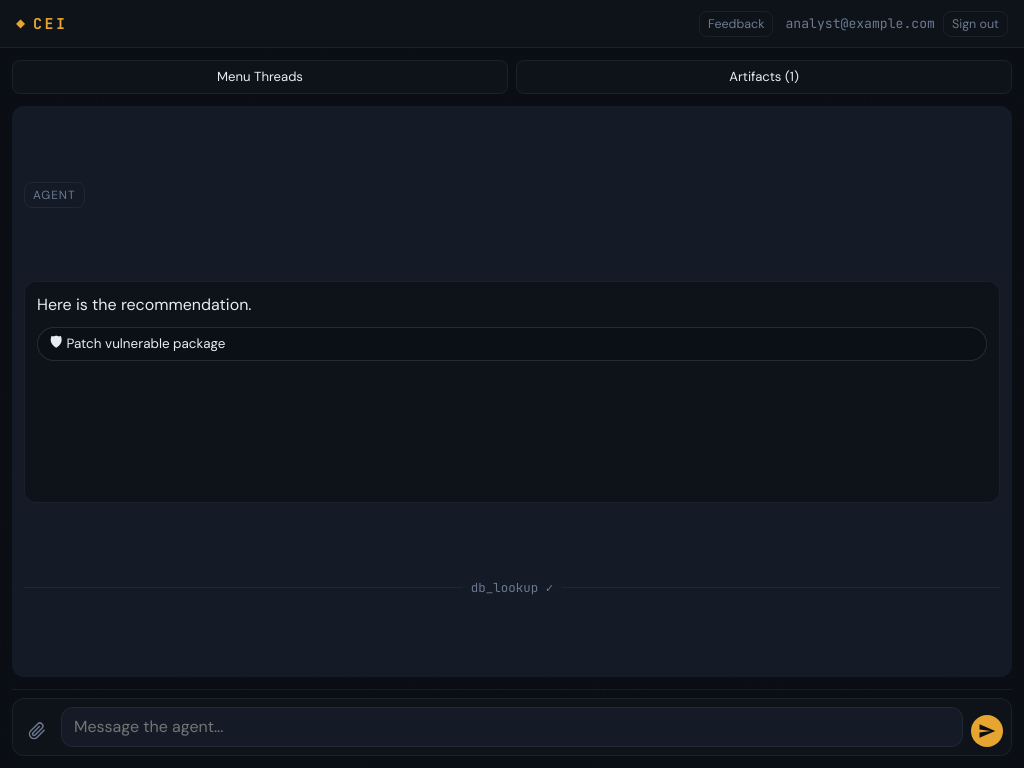
it: CommandCenter compact layout › opens expanded overlay when an artifact pill is clicked
This screenshot has width=1024, height=768.
Click the button "🛡 Patch vulnerable package".
click(146, 344)  # box [37,327,987,361]
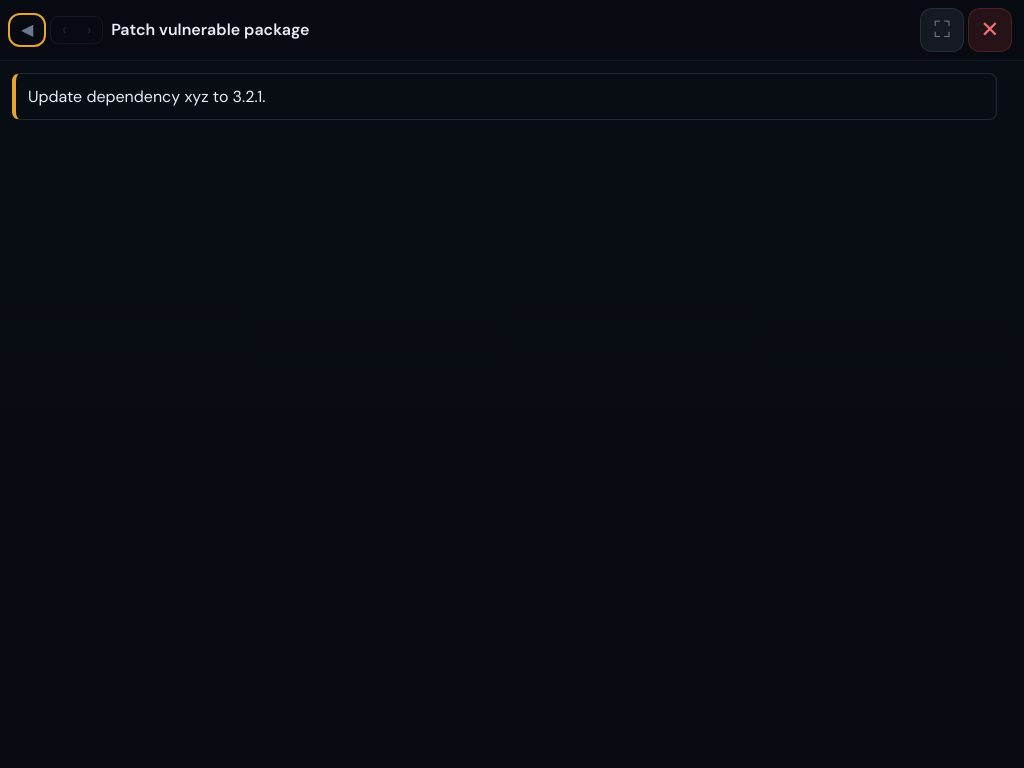
Check: the dialog named "Expanded artifact: Patch vulnerable package" is shown
Check: the button named "Open full-screen artifact view" is shown, box [920,8,964,52]
